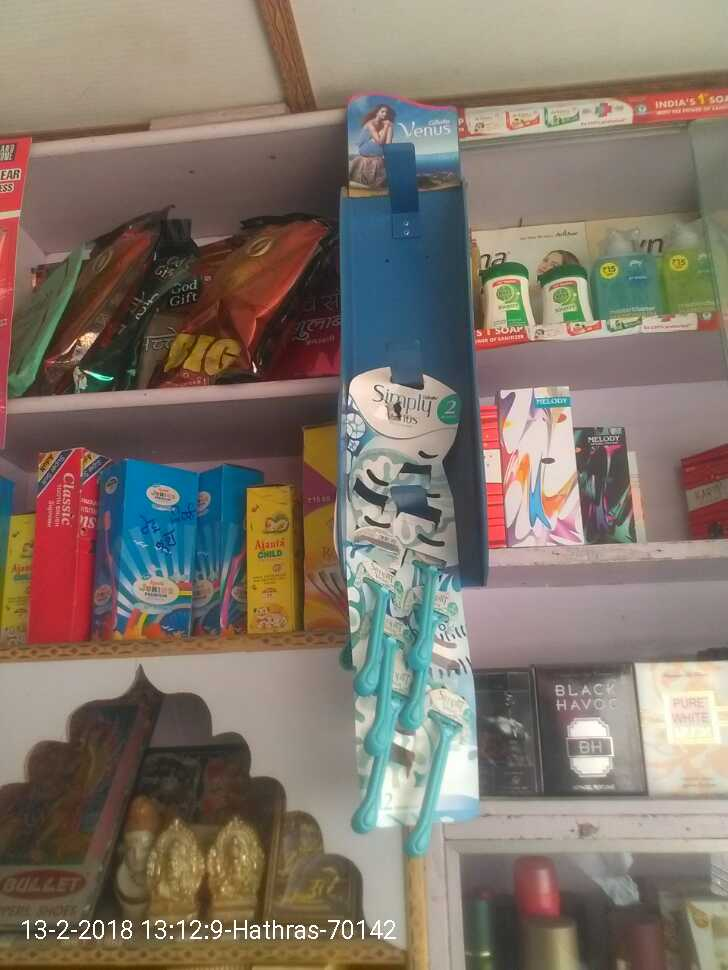reject: (331, 293, 560, 460)
